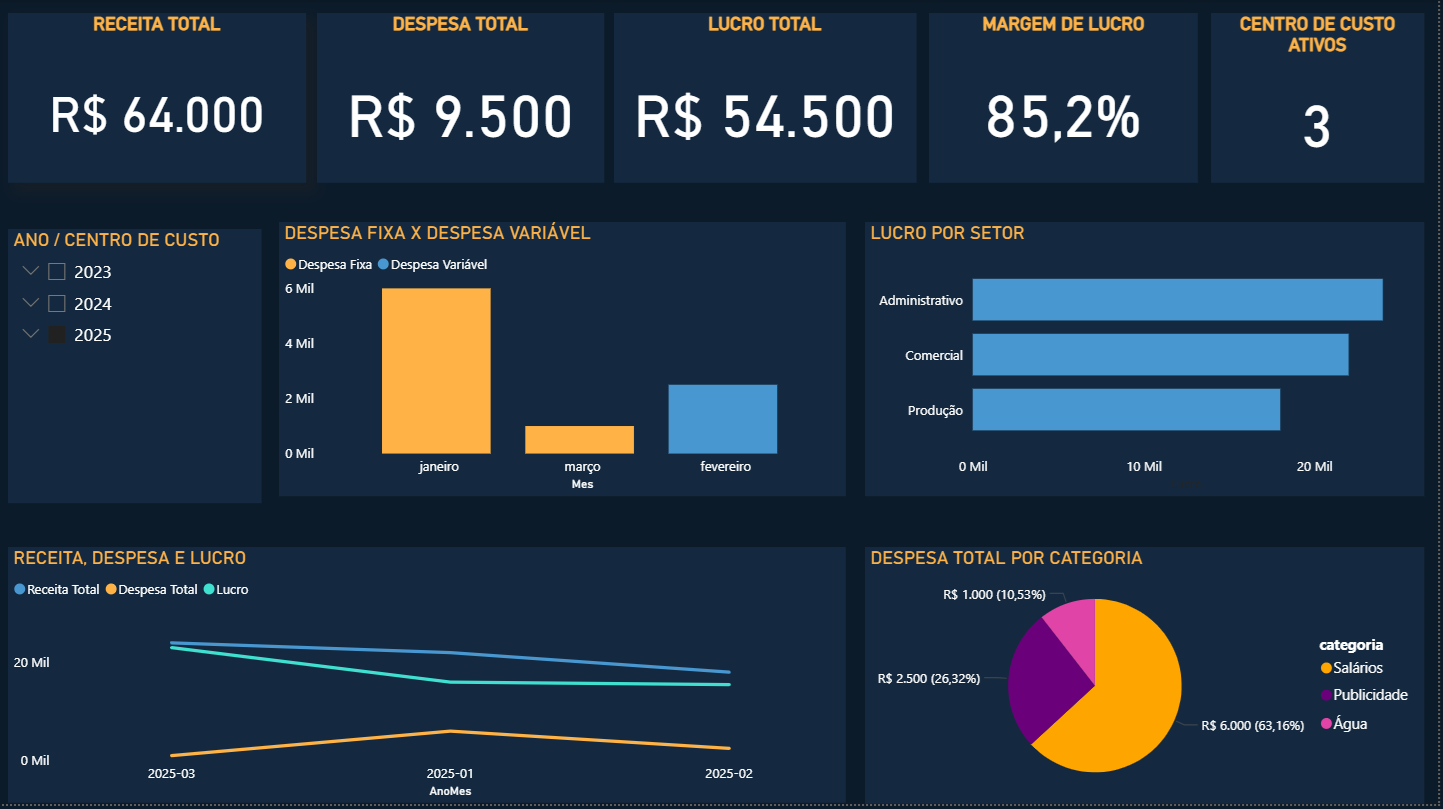

The page's visual inventory and layout, read from the dashboard file:
{"tool":"powerbi","page":{"name":"Página 1","canvas":[1322,739],"ordinal":0},"visuals":[{"type":"slicer","title":"ANO / CENTRO DE CUSTO","fields":{"Values":["Calendario.Ano","centros_custo.nome"]},"box":[7.4,210.5,232.5,251.8],"z":0},{"type":"columnChart","title":"DESPESA FIXA X DESPESA VARIÁVEL","fields":{"Category":["Calendario.Mes"],"Y":["Calendario.Despesa Fixa","Calendario.Despesa Variável"]},"box":[256.4,204.1,521.2,251.8],"z":1},{"type":"lineChart","title":"RECEITA, DESPESA E LUCRO","fields":{"Category":["Calendario.AnoMes"],"Y":["receitas.Receita Total","despesas.Despesa Total","contas_contabeis.Lucro"]},"box":[7.4,502.8,770.3,235.3],"z":2},{"type":"barChart","title":"LUCRO POR SETOR","fields":{"Y":["contas_contabeis.Lucro"],"Category":["centros_custo.nome"]},"box":[794.9,204,513.6,251.9],"z":3},{"type":"pieChart","title":"DESPESA TOTAL POR CATEGORIA","fields":{"Category":["despesas.categoria"],"Y":["despesas.Despesa Total"]},"box":[794.9,502.5,513.6,235.9],"z":4},{"type":"card","title":"RECEITA TOTAL","fields":{"Values":["receitas.Receita Total"]},"box":[7.4,11.9,273.9,156.3],"z":5},{"type":"card","title":"DESPESA TOTAL","fields":{"Values":["despesas.Despesa Total"]},"box":[291.4,11.9,263.8,156.3],"z":6},{"type":"card","title":"MARGEM DE LUCRO","fields":{"Values":["contas_contabeis.Margem Lucro"]},"box":[853.9,11.9,247.3,156.3],"z":7},{"type":"card","title":"CENTRO DE CUSTO ATIVOS","fields":{"Values":["centros_custo.Centro de Custo Ativos"]},"box":[1113.1,11.9,195.8,156.3],"z":8},{"type":"card","title":"LUCRO TOTAL","fields":{"Values":["contas_contabeis.Lucro"]},"box":[564.4,11.9,277.6,156.3],"z":9}]}

Visuals, with their boxes in screenshot pixels (x1, y1, x2, y2), scaled from the page's 1322x739 canvas onto the 1443x809 screenshot:
"ANO / CENTRO DE CUSTO" slicer: (left=8, top=230, right=262, bottom=506)
"DESPESA FIXA X DESPESA VARIÁVEL" columnChart: (left=280, top=223, right=849, bottom=499)
"RECEITA, DESPESA E LUCRO" lineChart: (left=8, top=550, right=849, bottom=808)
"LUCRO POR SETOR" barChart: (left=868, top=223, right=1428, bottom=499)
"DESPESA TOTAL POR CATEGORIA" pieChart: (left=868, top=550, right=1428, bottom=808)
"RECEITA TOTAL" card: (left=8, top=13, right=307, bottom=184)
"DESPESA TOTAL" card: (left=318, top=13, right=606, bottom=184)
"MARGEM DE LUCRO" card: (left=932, top=13, right=1202, bottom=184)
"CENTRO DE CUSTO ATIVOS" card: (left=1215, top=13, right=1429, bottom=184)
"LUCRO TOTAL" card: (left=616, top=13, right=919, bottom=184)
